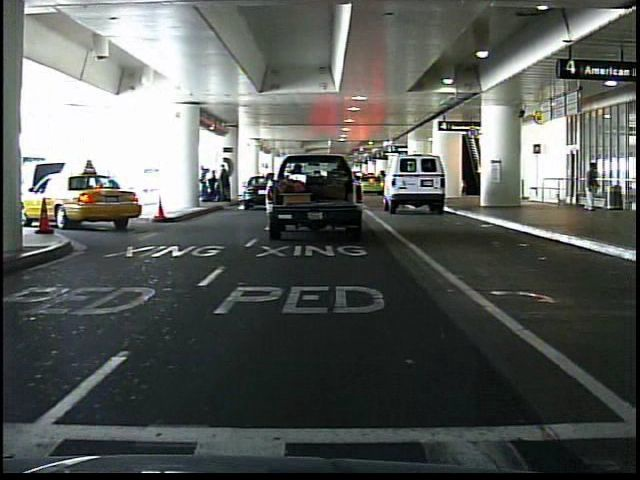person: (579, 161, 602, 215)
